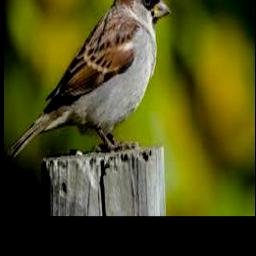Sparrow: (7, 0, 171, 157)
